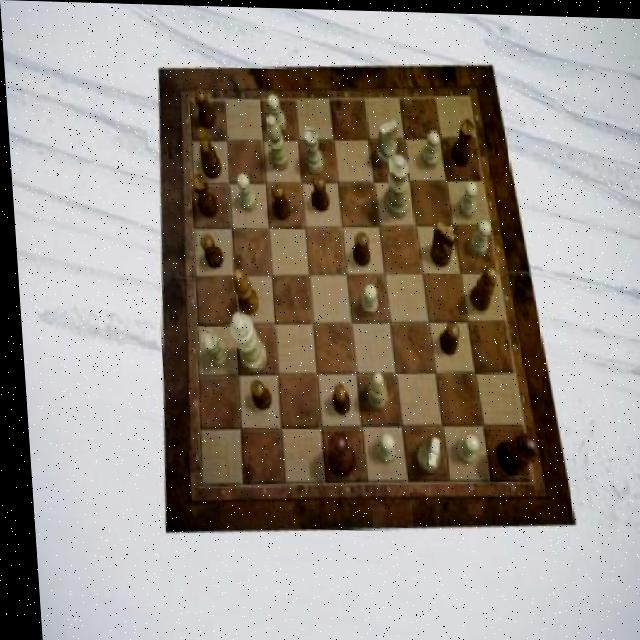bishop: (463, 264, 494, 309), (228, 268, 255, 315)
black-bishop: (489, 429, 533, 473)
black-king: (425, 219, 455, 266), (195, 126, 219, 177)
black-knight: (197, 233, 222, 268), (192, 88, 214, 127), (433, 319, 455, 353), (307, 173, 326, 209), (269, 182, 288, 218), (244, 379, 266, 409), (348, 230, 367, 264), (327, 381, 346, 414)
black-pawn: (321, 430, 351, 476)
black-queen: (447, 117, 474, 165), (189, 172, 216, 216)
black-rook: (263, 114, 287, 169), (359, 370, 382, 408)
white-bishop: (224, 311, 262, 372)
white-king: (372, 118, 397, 166), (408, 433, 435, 470)
white-knight: (465, 217, 490, 253), (417, 128, 439, 167), (455, 178, 477, 216), (234, 171, 255, 209), (265, 92, 285, 130), (448, 431, 473, 461), (355, 281, 374, 313), (368, 433, 388, 461)
white-pawn: (378, 152, 409, 216)
white-queen: (197, 327, 224, 367), (301, 125, 321, 172)
